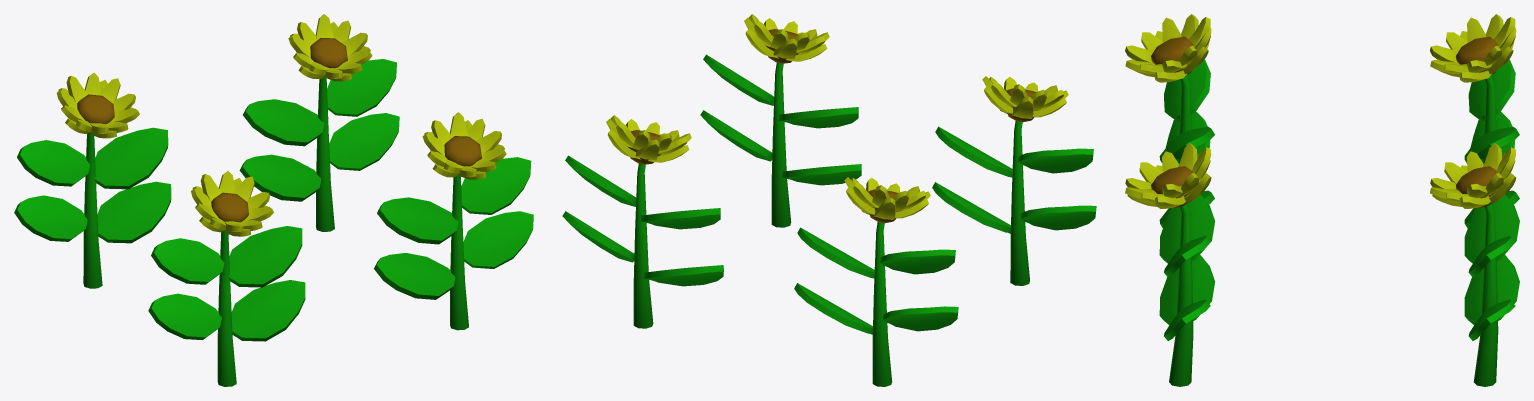
The model's file is Farm_Crop_Sunflower_Step_02.fbx.
3 views of the same model, side by side, from view 1: azimuth 30°, elevation 25°; view 2: azimuth 150°, elevation 25°; view 3: azimuth 270°, elevation 25° (orthographic). The views are drawn at different scales.
Visible parts, largest first — view 1: Farm_Crop_Sunflower_Step_02; view 2: Farm_Crop_Sunflower_Step_02; view 3: Farm_Crop_Sunflower_Step_02.
Boxes of the visible parts, <box> form: Farm_Crop_Sunflower_Step_02: <box>14,14,533,386</box>; Farm_Crop_Sunflower_Step_02: <box>562,14,1096,386</box>; Farm_Crop_Sunflower_Step_02: <box>1125,14,1519,386</box>.
Bounding box in the file's own units: 166 × 83.57 × 130.
